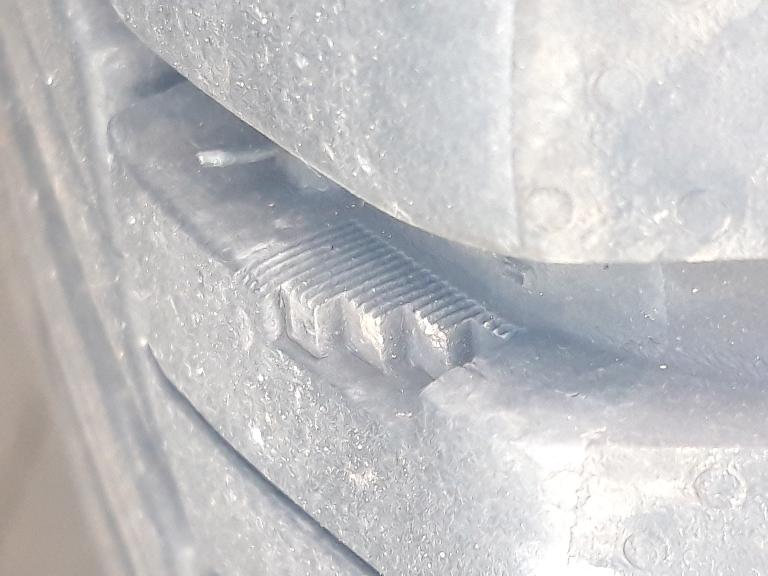temoin:90: (220, 210, 545, 452)
